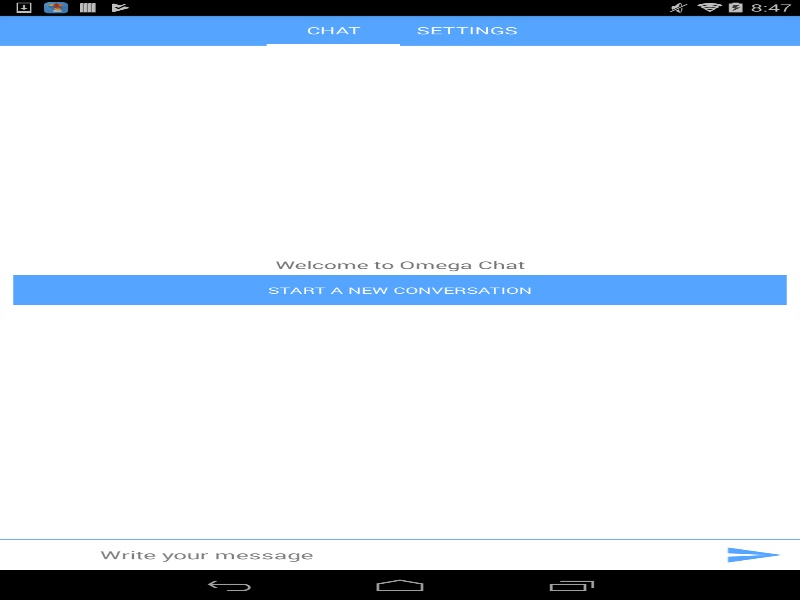Button: (13, 275, 786, 305), (707, 540, 800, 570)
Input: (92, 540, 707, 570)
